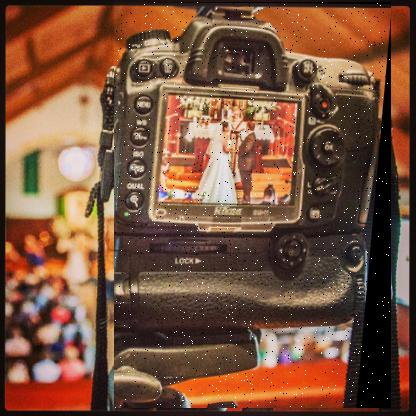Camera: (115, 3, 393, 410)
